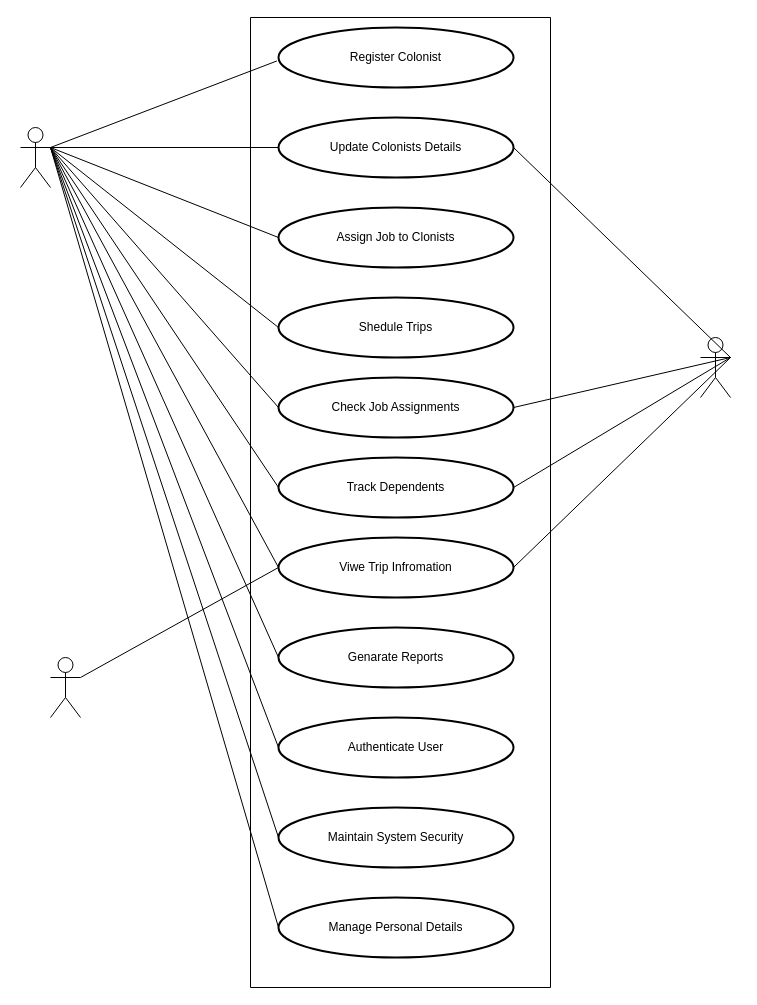
Image size: 757x1005. Some labels were removed from this diagram. Here are the shapes that lost their labels. From the top down, the centre of each, then its label:
the point at 35,157: Admin
the point at 715,367: Colonists
the point at 65,687: Astronomer (Pilot)
